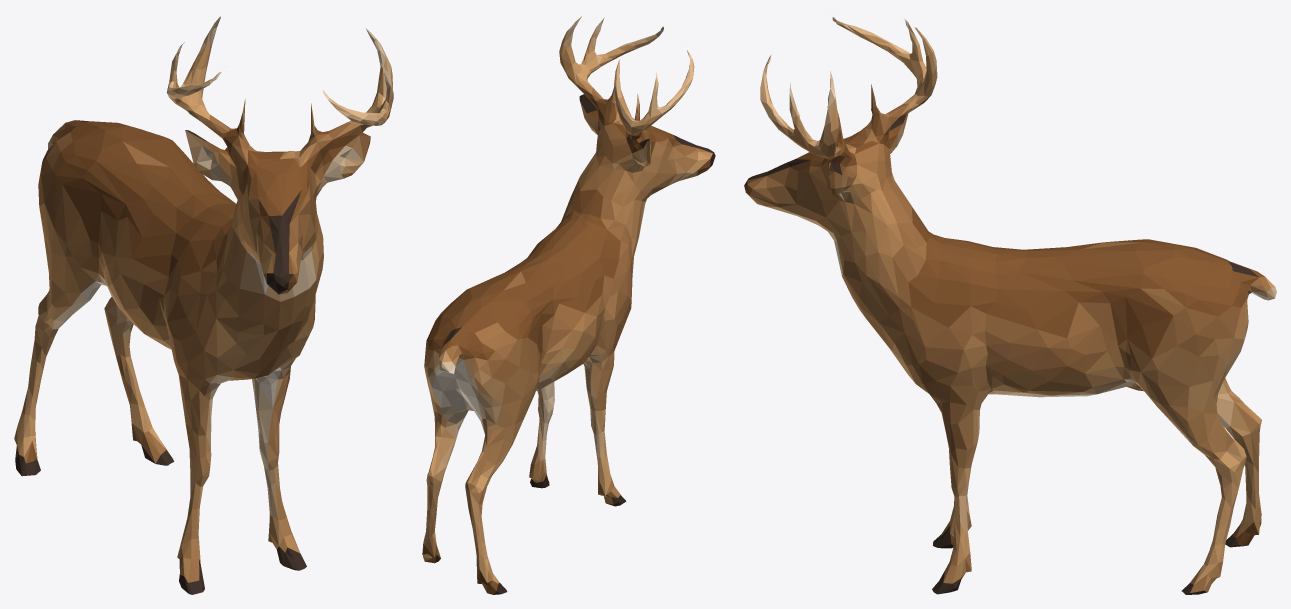
The model's file is roe_deer.glb.
3 renders of one model, left to right at view 1: azimuth 30°, elevation 25°; view 2: azimuth 150°, elevation 25°; view 3: azimuth 270°, elevation 25°, orthographic. The views are drawn at different scales.
Visible parts, largest first — view 1: low-poly-deer; view 2: low-poly-deer; view 3: low-poly-deer.
Boxes of the visible parts, x1,y1,x2,y2 form: low-poly-deer: (14, 16, 393, 594); low-poly-deer: (422, 16, 715, 594); low-poly-deer: (744, 17, 1276, 594).
Size of the model in its own units: 0.5882 by 1.72 by 1.58.
Materials: 1 (1 with a texture image).
